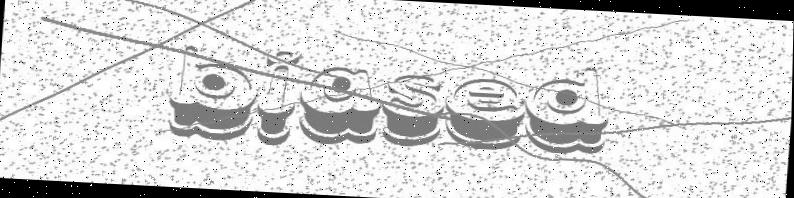a: (295, 61, 390, 152)
b: (163, 36, 262, 149)
d: (522, 60, 620, 158)
e: (442, 73, 531, 158)
i: (252, 41, 305, 148)
s: (372, 70, 448, 152)
